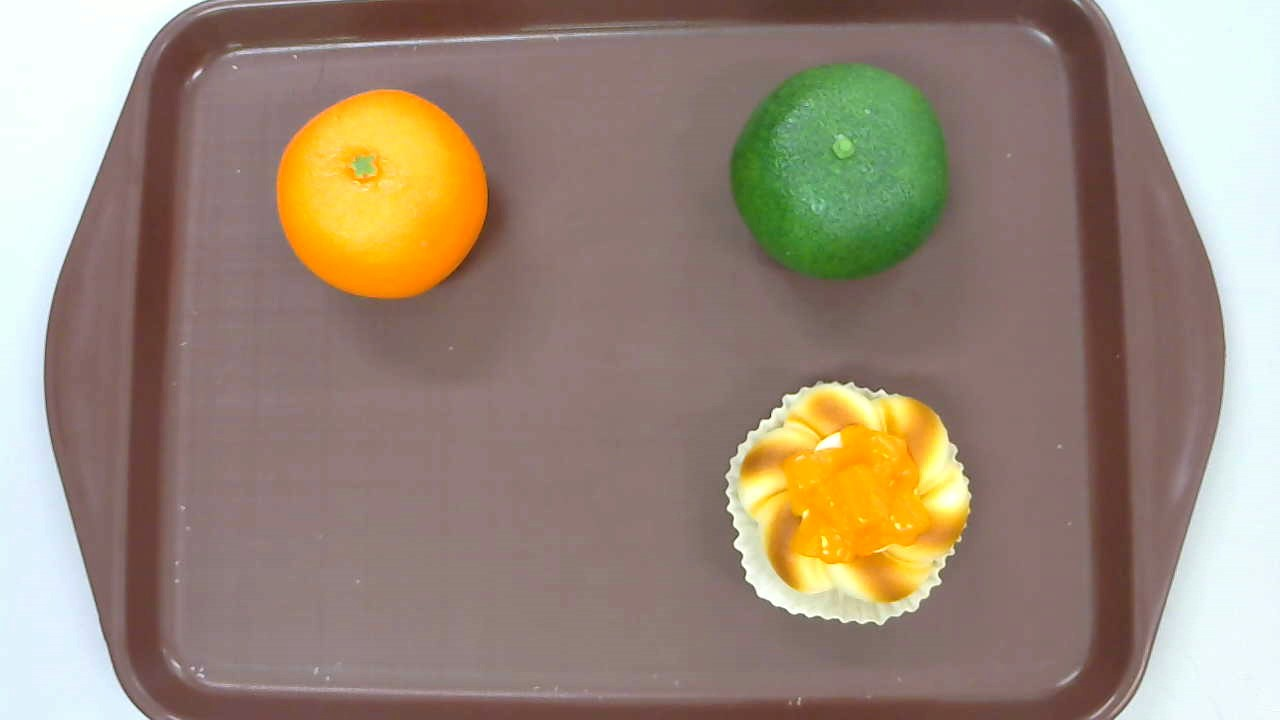green orange: (730, 62, 951, 283)
mango tart: (725, 378, 973, 627)
orange: (275, 88, 487, 300)
